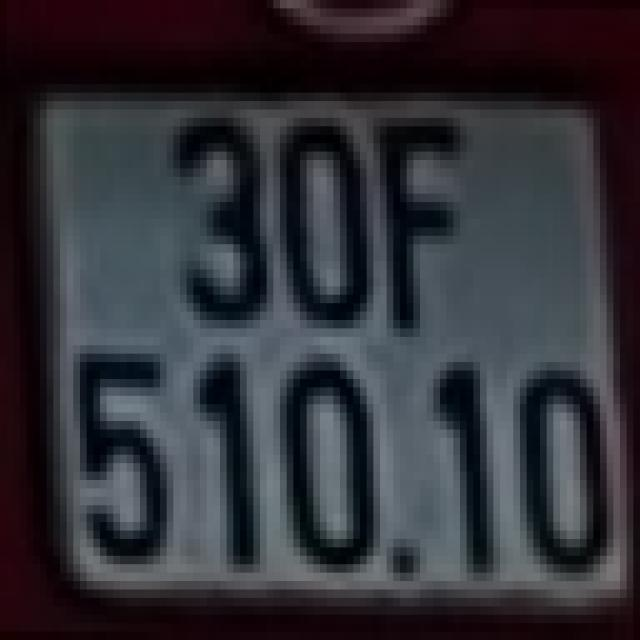0: (280, 353, 380, 572), (280, 110, 373, 328), (520, 362, 613, 573)
1: (433, 362, 500, 573), (193, 354, 260, 564)
3: (166, 109, 266, 320)
5: (74, 345, 174, 564)
F: (373, 110, 467, 328)
